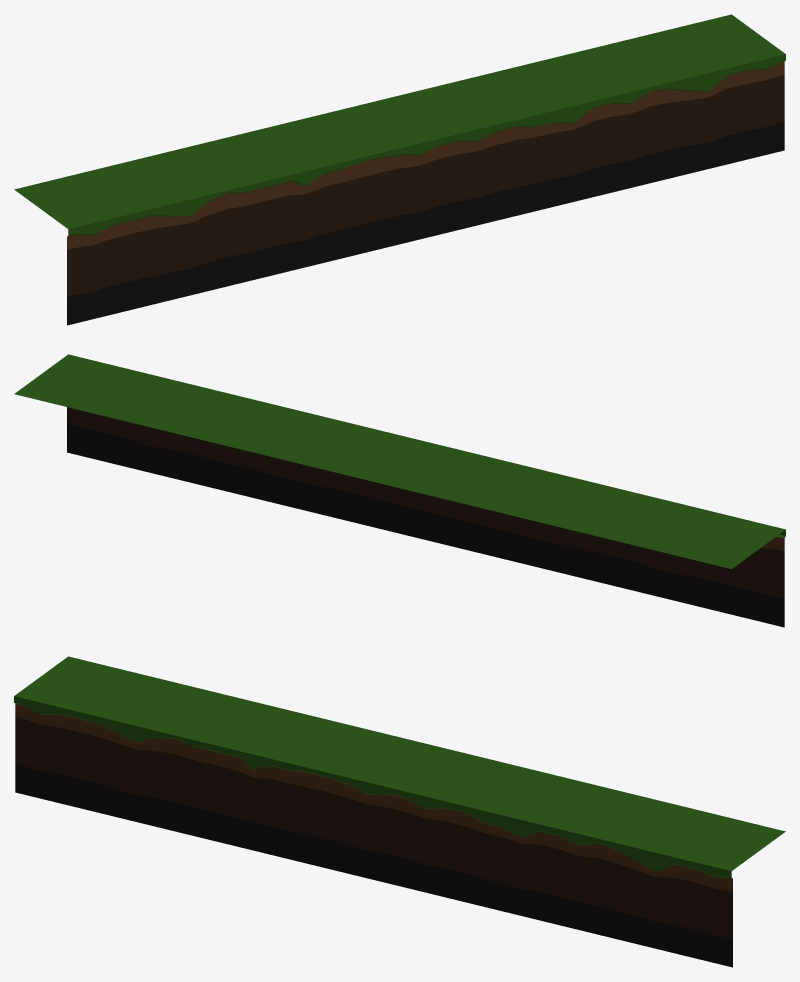
Rendered from ground.FBX.
3 renders of one model, top to bottom at view 1: azimuth 30°, elevation 25°; view 2: azimuth 150°, elevation 25°; view 3: azimuth 330°, elevation 25°, orthographic.
Parts seen in each view (by area): view 1: ground; view 2: ground; view 3: ground.
Part boxes in pixels (<box>): ground: <box>14,14,785,325</box>; ground: <box>14,354,785,627</box>; ground: <box>14,656,785,967</box>.
Size of the model in its own units: 11.31 by 1.46 by 1.48.
